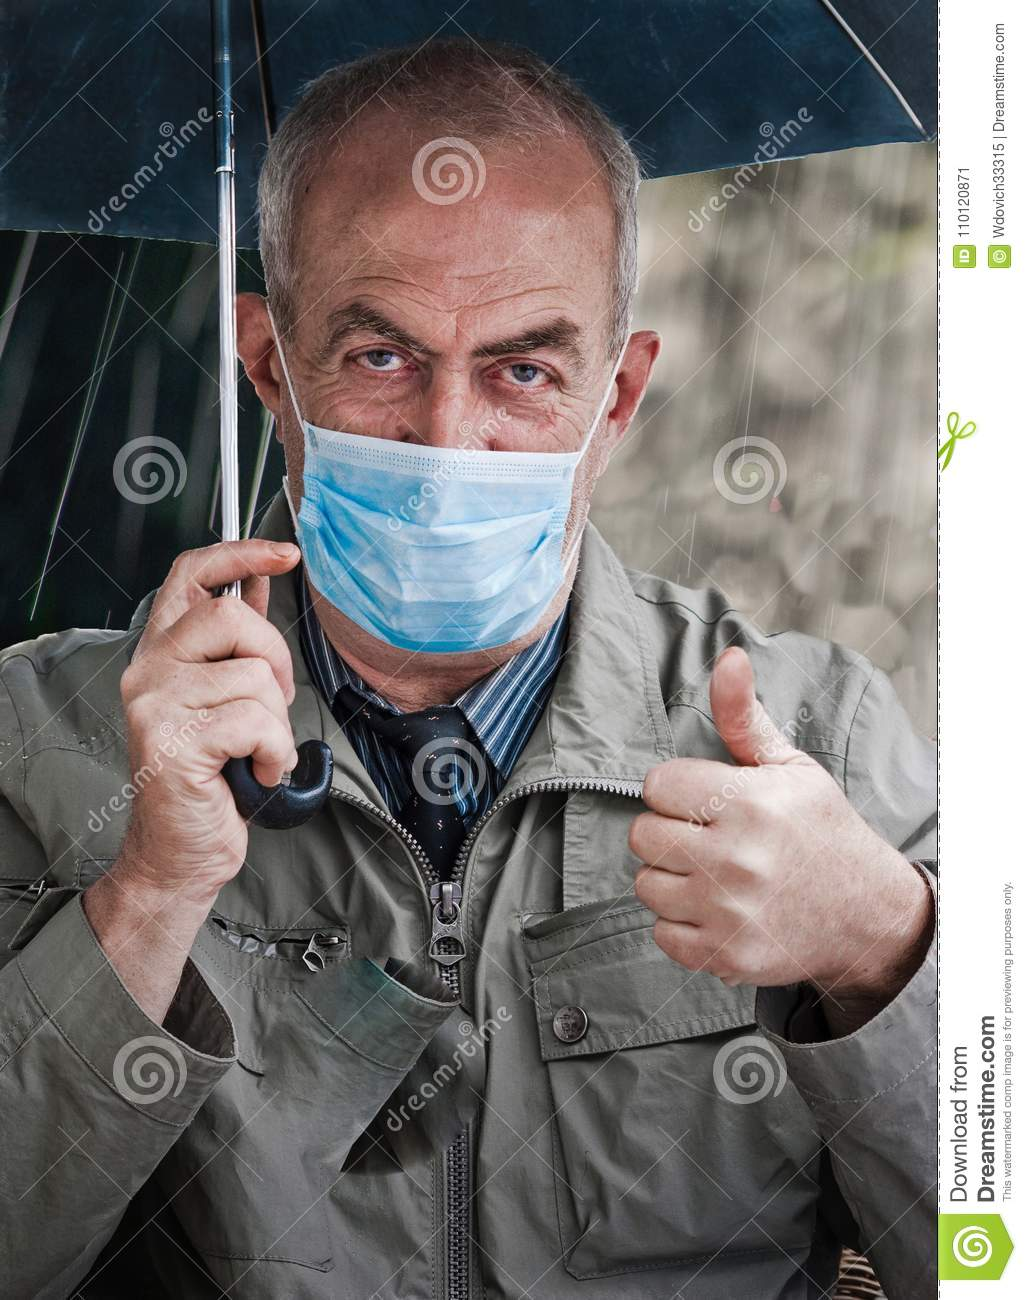mask: (294, 422, 577, 655)
